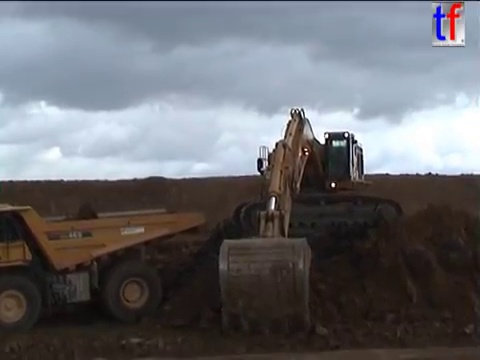excavator: (214, 104, 406, 337)
truck: (1, 199, 208, 335)
